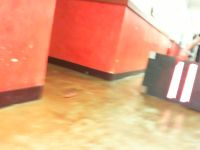switch: (166, 61, 185, 99), (178, 64, 197, 102)
